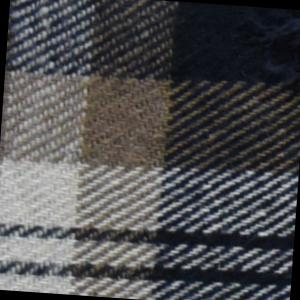Damage: (226, 6, 300, 105)
